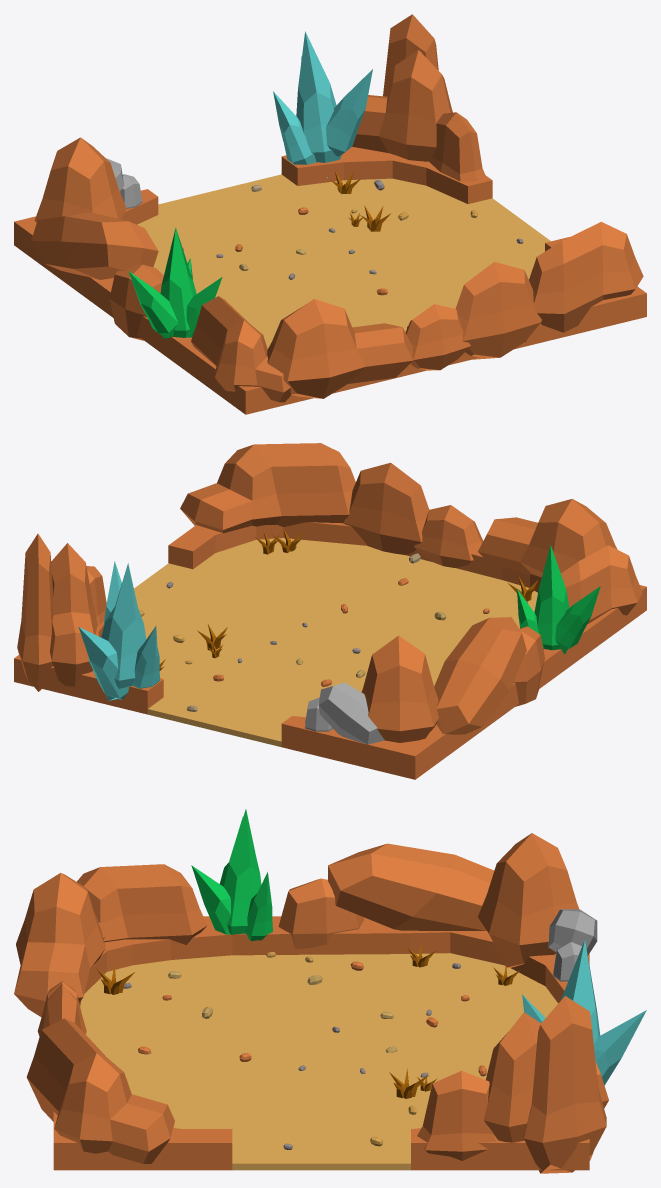
Rendered from cave level set - 2 Way (5).fbx.
3 views of the same model, one above another, from view 1: azimuth 30°, elevation 25°; view 2: azimuth 150°, elevation 25°; view 3: azimuth 270°, elevation 25° (orthographic). The views are drawn at different scales.
Visible parts, largest first — view 1: land_platform_001, Cube_002, Cube_010, Cube_004, Cube_009, Cube_011, Cube_012, Cube_003, Cube, Cube_001, Cube_005, Cube_006 (+2 smaller); view 2: land_platform_001, Cube_004, Cube_010, Cube_002, Cube, Cube_011, Cube_012, Cube_009, Cube_008, Cube_001, Cube_003, Cube_007 (+2 smaller); view 3: land_platform_001, Cube_010, Cube_004, Cube_008, Cube_002, Cube, Cube_003, Cube_001, Cube_009, Cube_006, Cube_011, Cube_007 (+1 smaller).
Part boxes in pixels (bbox=[...]): land_platform_001: bbox=[14, 147, 646, 414]; Cube_002: bbox=[267, 299, 413, 398]; Cube_010: bbox=[31, 212, 163, 340]; Cube_004: bbox=[529, 221, 643, 332]; Cube_009: bbox=[352, 50, 452, 161]; Cube_011: bbox=[273, 31, 372, 178]; Cube_012: bbox=[455, 262, 541, 359]; Cube_003: bbox=[191, 296, 290, 402]; Cube: bbox=[34, 137, 126, 222]; Cube_001: bbox=[128, 227, 222, 338]; Cube_005: bbox=[405, 304, 470, 370]; Cube_006: bbox=[429, 112, 485, 181]; land_platform_001: bbox=[14, 522, 646, 779]; Cube_004: bbox=[180, 443, 355, 533]; Cube_010: bbox=[434, 617, 544, 734]; Cube_002: bbox=[478, 499, 617, 577]; Cube: bbox=[361, 635, 438, 742]; Cube_011: bbox=[78, 561, 159, 700]; Cube_012: bbox=[343, 462, 429, 554]; Cube_009: bbox=[49, 543, 97, 686]; Cube_008: bbox=[17, 533, 53, 691]; Cube_001: bbox=[517, 545, 600, 653]; Cube_003: bbox=[561, 545, 642, 624]; Cube_007: bbox=[305, 682, 384, 744]; land_platform_001: bbox=[53, 916, 589, 1170]; Cube_010: bbox=[278, 843, 494, 949]; Cube_004: bbox=[26, 1018, 174, 1163]; Cube_008: bbox=[523, 996, 606, 1173]; Cube_002: bbox=[14, 873, 105, 1017]; Cube: bbox=[478, 833, 578, 967]; Cube_003: bbox=[77, 864, 207, 944]; Cube_001: bbox=[191, 809, 272, 941]; Cube_009: bbox=[484, 1012, 608, 1142]; Cube_006: bbox=[417, 1071, 497, 1160]; Cube_011: bbox=[522, 939, 646, 1085]; Cube_007: bbox=[548, 909, 597, 981].
Size of the model in its own units: 17.45 by 5.73 by 17.92.
